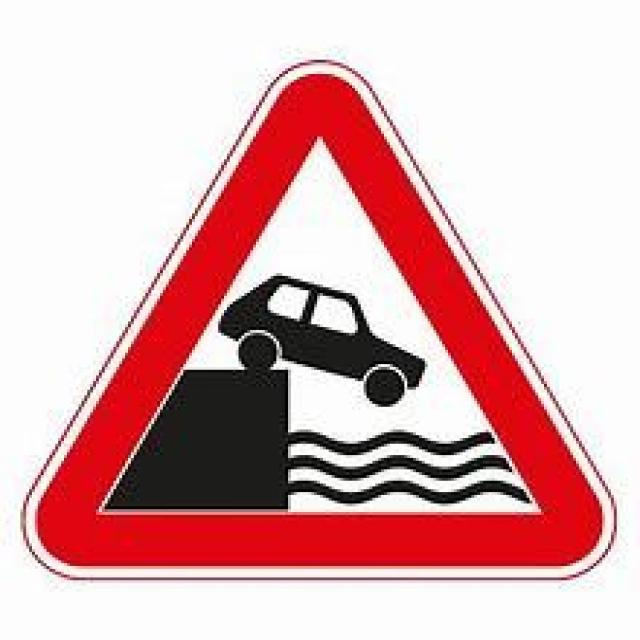QUAY_SIDE_OR_RIVER_BANK: (17, 54, 617, 580)
